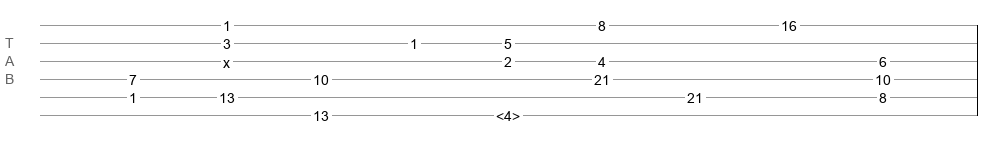1: (129, 90, 137, 100), (223, 18, 231, 28), (410, 36, 418, 46)
10: (313, 72, 329, 82), (875, 72, 891, 82)
13: (219, 90, 235, 100), (313, 108, 329, 118)
16: (781, 18, 797, 28)
2: (504, 54, 512, 64)
21: (594, 72, 610, 82), (687, 90, 703, 100)
3: (223, 36, 231, 46)
4: (598, 54, 606, 64)
5: (504, 36, 512, 46)
6: (879, 54, 887, 64)
7: (129, 72, 137, 82)
8: (598, 18, 606, 28), (879, 90, 887, 100)
harmonic: (496, 108, 520, 118)
x: (223, 55, 230, 63)
